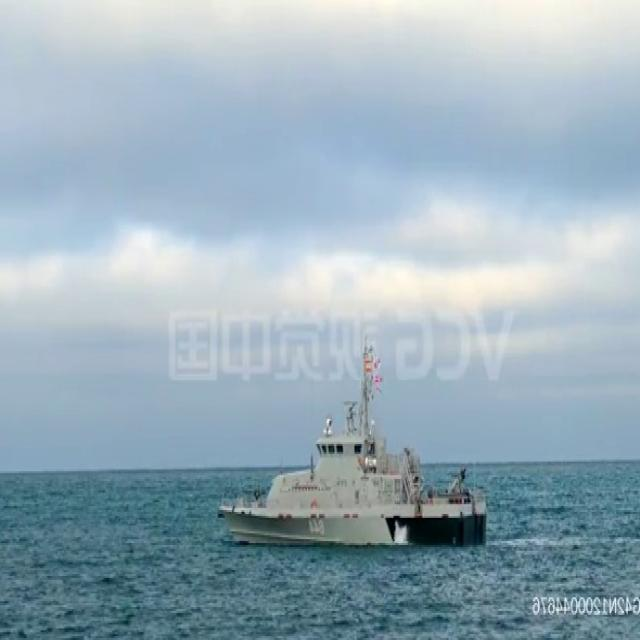houseboat: (218, 338, 487, 546)
